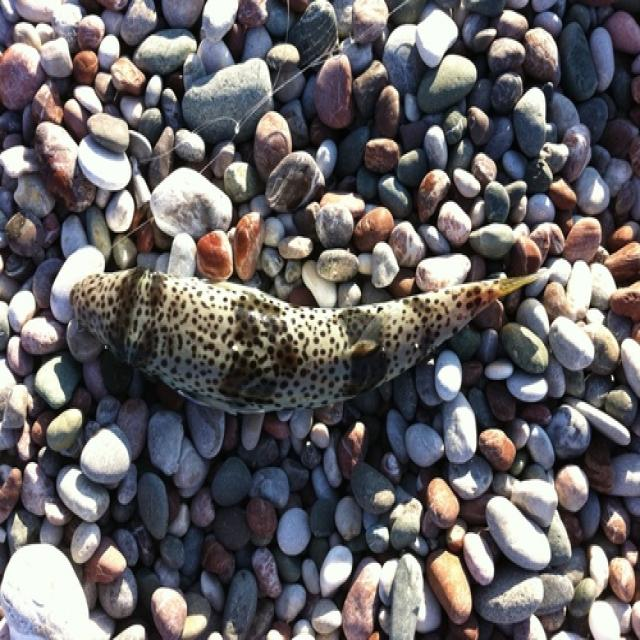Balik: (71, 269, 535, 412)
